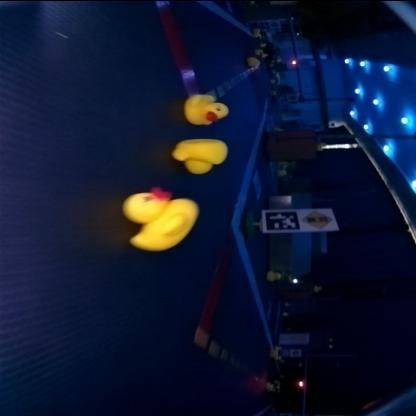Duckie: (124, 187, 201, 249), (174, 137, 228, 173), (186, 94, 230, 122), (268, 270, 281, 280), (248, 56, 261, 64), (280, 169, 288, 175), (266, 382, 274, 387), (314, 285, 322, 290), (257, 48, 264, 53), (254, 30, 262, 34)
QR code: (265, 209, 301, 230)
Signal sign: (304, 209, 334, 228)
